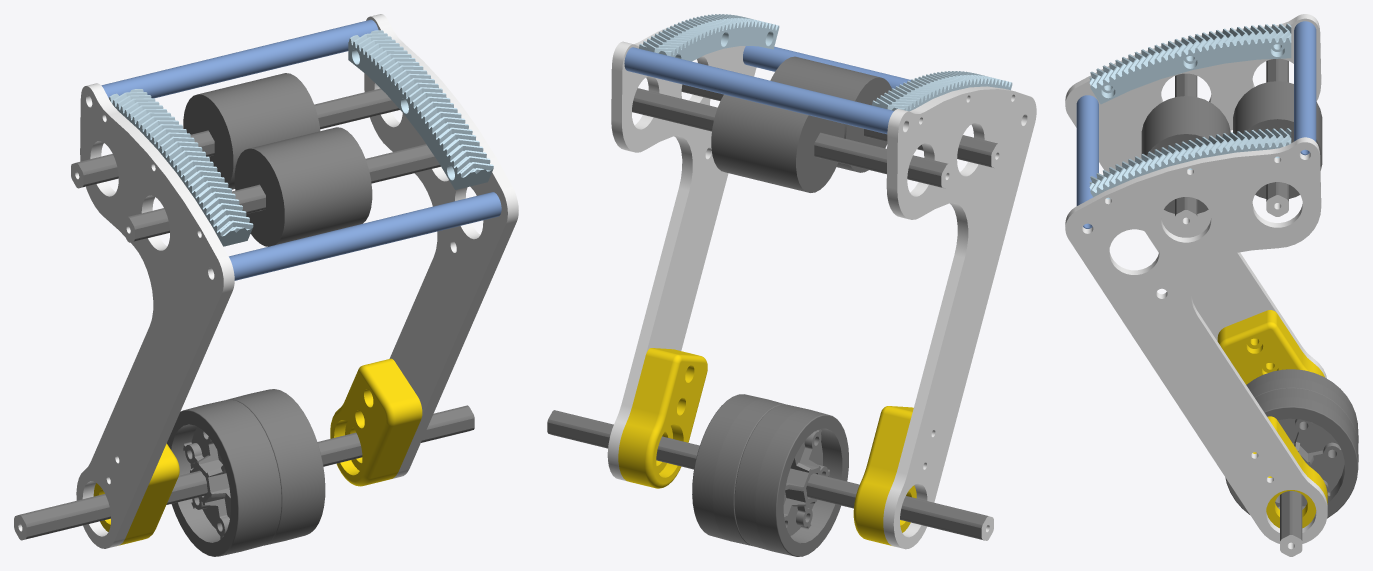
3 views of the same model, side by side, from view 1: azimuth 30°, elevation 25°; view 2: azimuth 150°, elevation 25°; view 3: azimuth 270°, elevation 25° (orthographic). The views are drawn at different scales.
Visible parts, largest first — view 1: right_hood_plate, 3" Solid Urethane Wheel (45A, 1" Wide, 1/2" Hex Bore), 2" Solid Urethane Wheel (45A, 1" Wide, 1/2" Hex Bore)_1, left_hood_plate, Spur gear (357 teeth) (×2), hood_standoff, Part 9, 1/2" Rounded Hex (7.4375"L 13.75mm OD)_1, 1/2" Rounded Hex (10.25"L 13.75mm OD), Part 11; view 2: right_hood_plate, 3" Solid Urethane Wheel (45A, 1" Wide, 1/2" Hex Bore), left_hood_plate, 2" Solid Urethane Wheel (45A, 1" Wide, 1/2" Hex Bore)_1, hood_standoff, Part 9, Spur gear (357 teeth) (×2), 1/2" Rounded Hex (7.4375"L 13.75mm OD)_1, 1/2" Rounded Hex (10.25"L 13.75mm OD), Part 11; view 3: left_hood_plate, right_hood_plate, Spur gear (357 teeth) (×2), 3" Solid Urethane Wheel (45A, 1" Wide, 1/2" Hex Bore), 2" Solid Urethane Wheel (45A, 1" Wide, 1/2" Hex Bore)_1, hood_standoff, Part 11, 1/2" Rounded Hex (7.4375"L 13.75mm OD)_1, Part 9, 1/2" Rounded Hex (10.25"L 13.75mm OD).
Boxes of the visible parts, left/top/right/bottom form: right_hood_plate: left=76, top=83, right=234, bottom=548; 3" Solid Urethane Wheel (45A, 1" Wide, 1/2" Hex Bore): left=167, top=389, right=325, bottom=556; 2" Solid Urethane Wheel (45A, 1" Wide, 1/2" Hex Bore)_1: left=183, top=73, right=372, bottom=246; left_hood_plate: left=364, top=14, right=518, bottom=479; Spur gear (357 teeth) (×2): left=109, top=30, right=493, bottom=246; hood_standoff: left=101, top=19, right=501, bottom=280; Part 9: left=330, top=358, right=422, bottom=486; 1/2" Rounded Hex (7.4375"L 13.75mm OD)_1: left=71, top=88, right=440, bottom=242; 1/2" Rounded Hex (10.25"L 13.75mm OD): left=14, top=405, right=474, bottom=540; Part 11: left=93, top=443, right=179, bottom=545; right_hood_plate: left=883, top=86, right=1036, bottom=549; 3" Solid Urethane Wheel (45A, 1" Wide, 1/2" Hex Bore): left=692, top=394, right=848, bottom=556; left_hood_plate: left=607, top=24, right=756, bottom=481; 2" Solid Urethane Wheel (45A, 1" Wide, 1/2" Hex Bore)_1: left=711, top=56, right=891, bottom=192; hood_standoff: left=624, top=46, right=910, bottom=134; Part 9: left=618, top=348, right=707, bottom=488; Spur gear (357 teeth) (×2): left=639, top=14, right=1012, bottom=111; 1/2" Rounded Hex (7.4375"L 13.75mm OD)_1: left=632, top=84, right=1003, bottom=188; 1/2" Rounded Hex (10.25"L 13.75mm OD): left=547, top=410, right=993, bottom=540; Part 11: left=853, top=406, right=916, bottom=545; left_hood_plate: left=1065, top=137, right=1327, bottom=543; right_hood_plate: left=1065, top=14, right=1326, bottom=378; Spur gear (357 teeth) (×2): left=1089, top=23, right=1291, bottom=199; 3" Solid Urethane Wheel (45A, 1" Wide, 1/2" Hex Bore): left=1225, top=369, right=1358, bottom=518; 2" Solid Urethane Wheel (45A, 1" Wide, 1/2" Hex Bore)_1: left=1141, top=81, right=1322, bottom=213; hood_standoff: left=1076, top=21, right=1316, bottom=228; Part 11: left=1217, top=310, right=1324, bottom=384; 1/2" Rounded Hex (7.4375"L 13.75mm OD)_1: left=1175, top=58, right=1288, bottom=231; Part 9: left=1253, top=416, right=1327, bottom=528; 1/2" Rounded Hex (10.25"L 13.75mm OD): left=1280, top=491, right=1302, bottom=556.
Bounding box in the file's own units: 0.2603 × 0.269 × 0.1658.
